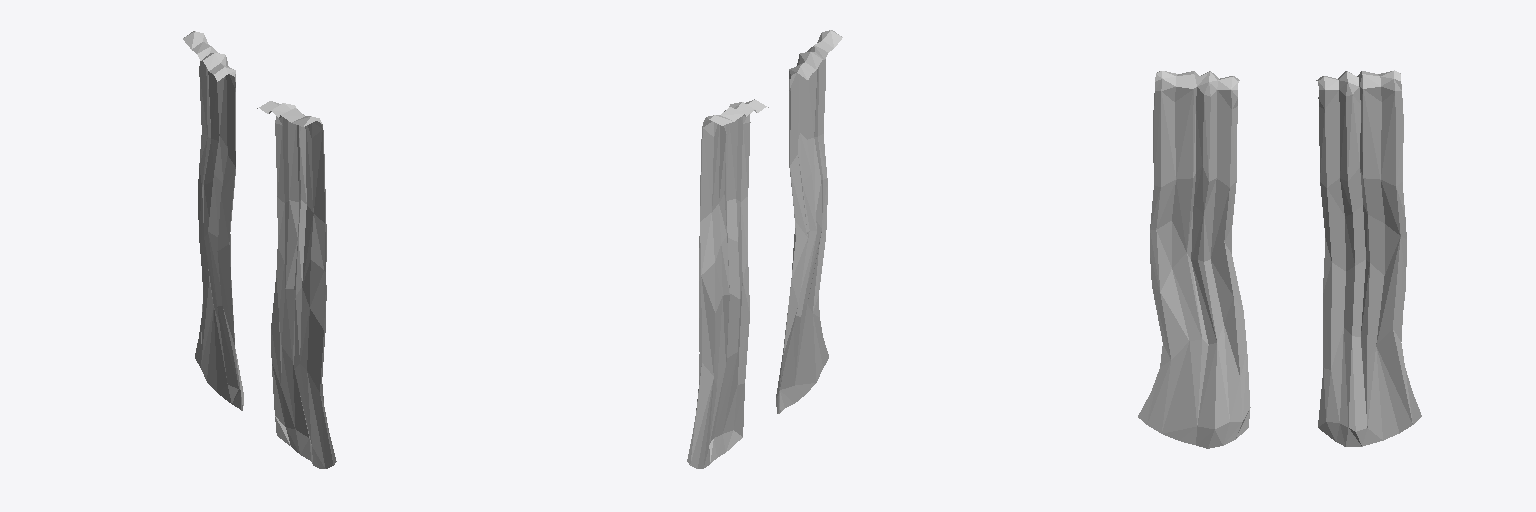
The model's file is curtain2b.obj.
3 views of the same model, side by side, from view 1: azimuth 30°, elevation 25°; view 2: azimuth 150°, elevation 25°; view 3: azimuth 270°, elevation 25° (orthographic).
Size of the model in its own units: 0.2406 by 2.03 by 1.43.